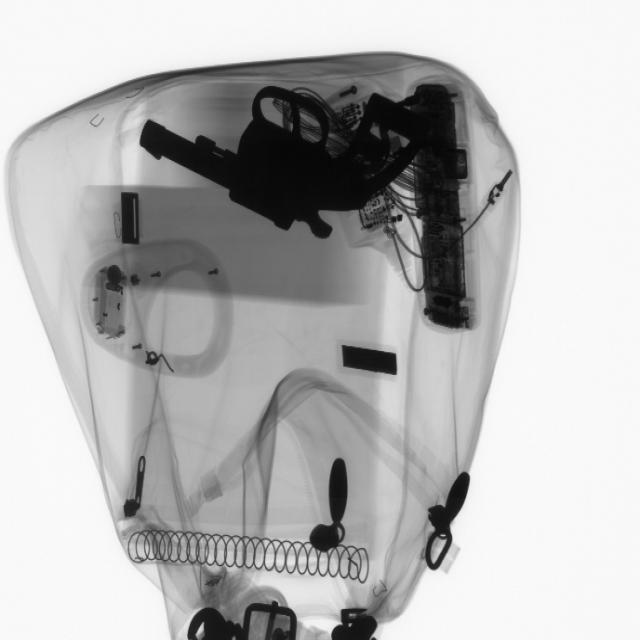GUN: (139, 81, 427, 242)
